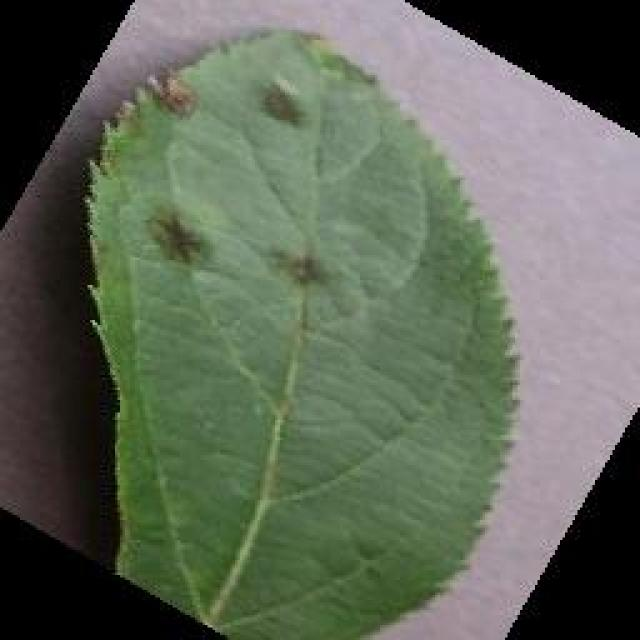apple scab disease: (80, 25, 522, 637)
